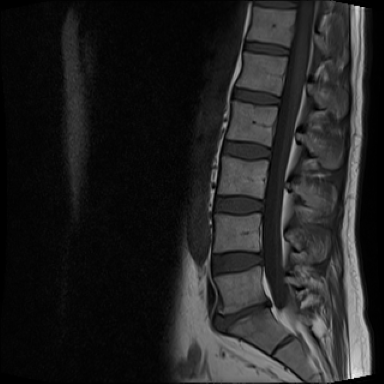Degenerative Disc Disease (DDD): (209, 298, 277, 339)
Normal IVD: (203, 247, 267, 280), (216, 137, 277, 163), (207, 191, 267, 217), (240, 37, 293, 59), (232, 87, 284, 108)
Spinal Stenosis (SS): (260, 294, 276, 313)
